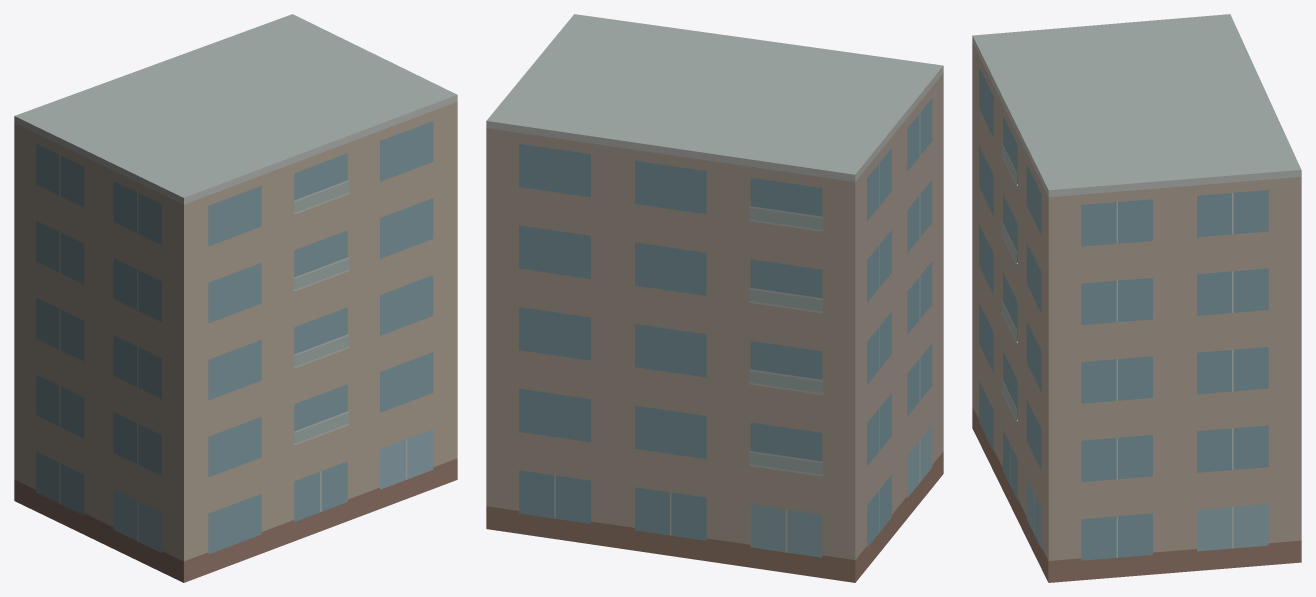
File: survey-upis-32891621.glb
3 views of the same model, side by side, from view 1: azimuth 30°, elevation 25°; view 2: azimuth 150°, elevation 25°; view 3: azimuth 270°, elevation 25° (orthographic). The views are drawn at different scales.
Parts seen in each view (by area): view 1: survey-upis-32891621.tmp; view 2: survey-upis-32891621.tmp; view 3: survey-upis-32891621.tmp.
Part boxes in pixels (x1,y1,x2,y2): survey-upis-32891621.tmp: [14, 14, 457, 582]; survey-upis-32891621.tmp: [486, 14, 943, 582]; survey-upis-32891621.tmp: [972, 14, 1301, 582].
Size of the model in its own units: 13.25 by 13.75 by 10.46.
